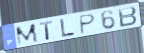6: (100, 10, 117, 31)
B: (117, 6, 138, 29)
L: (59, 18, 76, 39)
M: (15, 22, 40, 47)
P: (79, 13, 97, 36)
T: (39, 20, 55, 41)
